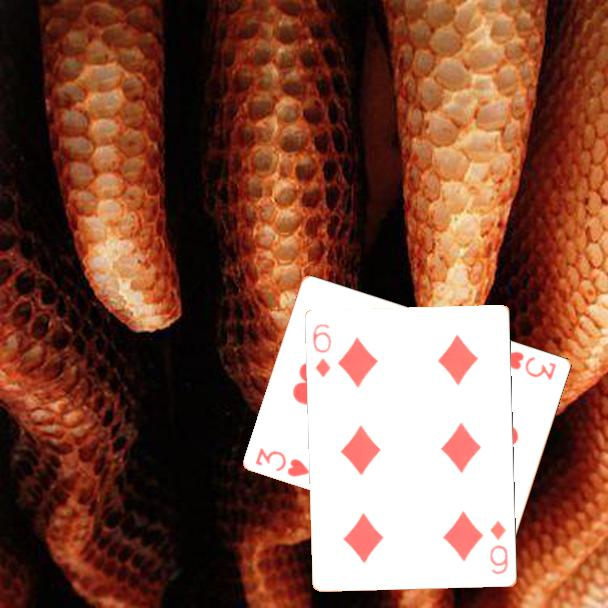d06: (487, 517, 511, 577), (310, 321, 334, 380)
h03: (252, 444, 313, 480), (497, 348, 559, 382)
